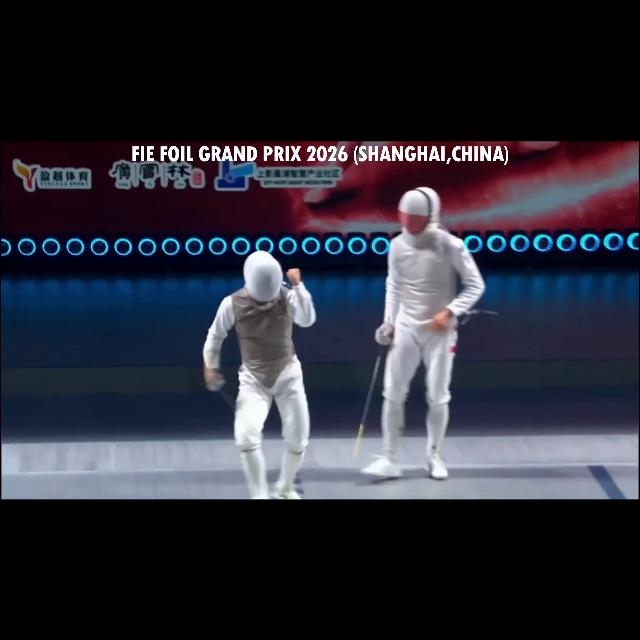blade: (344, 322, 392, 472), (202, 368, 242, 416)
